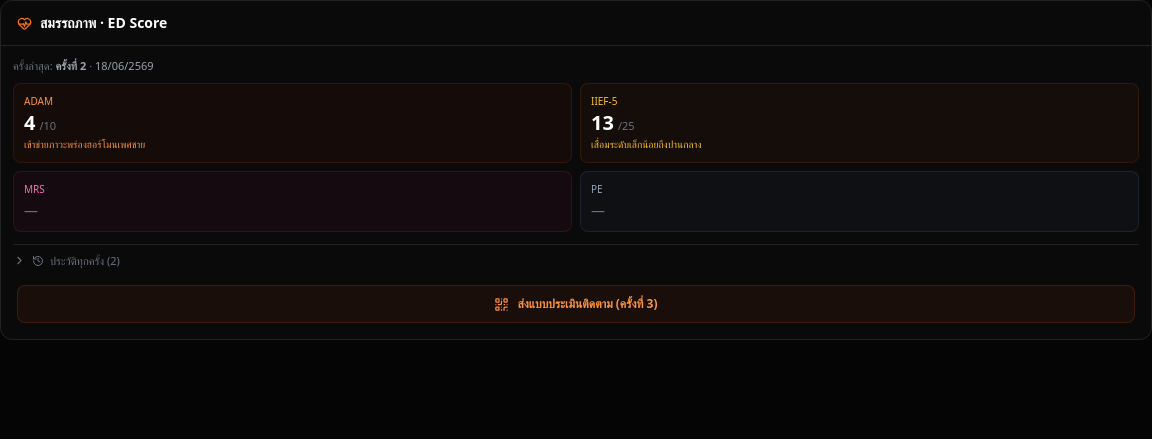
EDScoreBox round-select › R2 click round-1 row → header "กำลังดู: ครั้งที่ 1" + back pill appears
Click the button with test id "ed-history-toggle".
click(80, 260)  # box [13,244,1139,269]
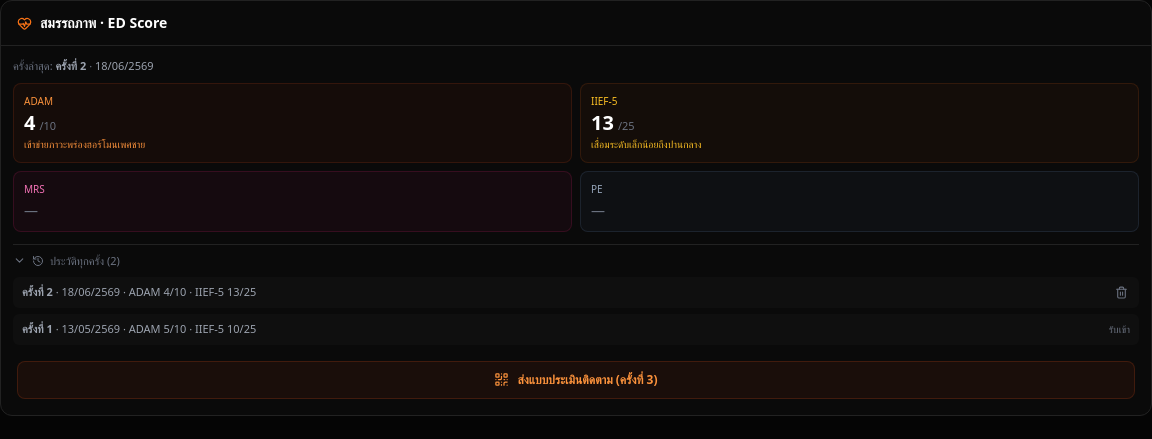
Click the button with test id "ed-history-__intake__".
click(91, 328)  # box [13,314,1139,344]
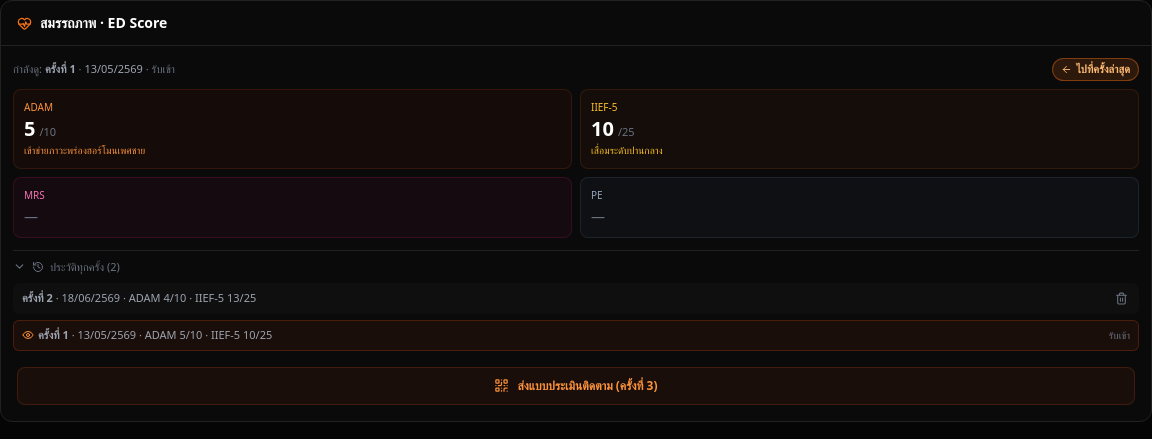
Expected: the text "กำลังดู: ครั้งที่ 1 · 13/05/2569 · รับเข้า" is shown, [13,61,175,78]
Expected: the button with test id "ed-back-to-latest" is shown, [1052,58,1139,80]
